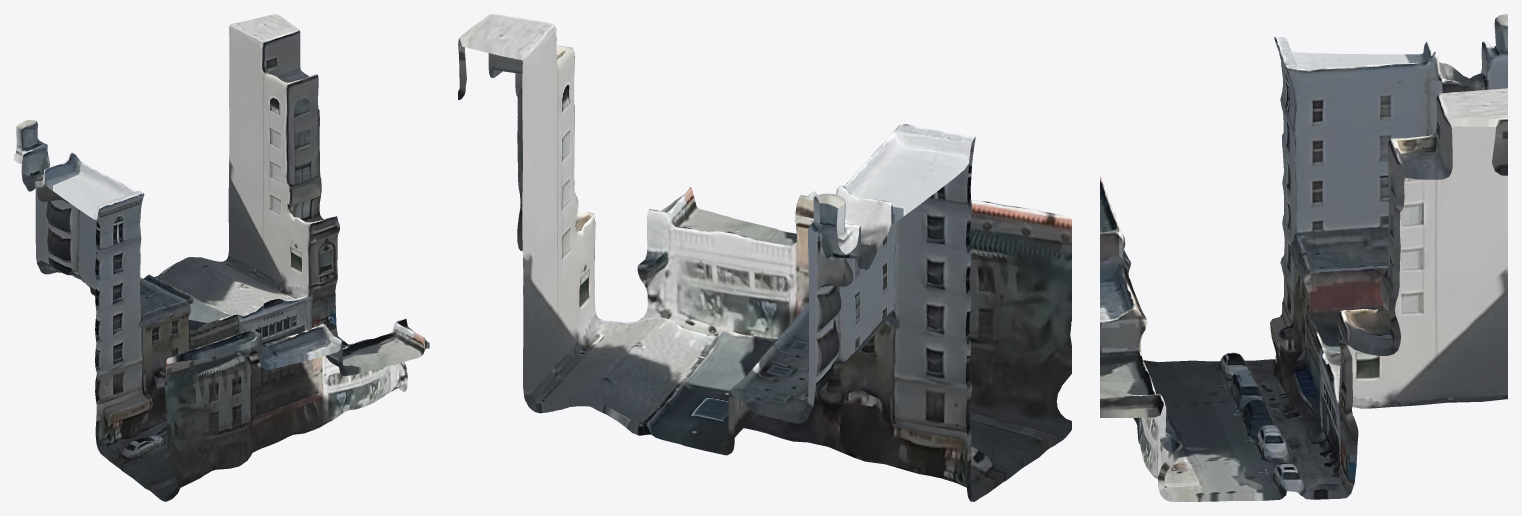
File: z20-167755-405237-h0-yup-uvflip-v3-world.glb
3 renders of one model, left to right at view 1: azimuth 30°, elevation 25°; view 2: azimuth 150°, elevation 25°; view 3: azimuth 270°, elevation 25°, orthographic. The views are drawn at different scales.
Bounding box in the file's own units: 30.16 × 34.68 × 30.32.
Materials: 1 (1 with a texture image).
